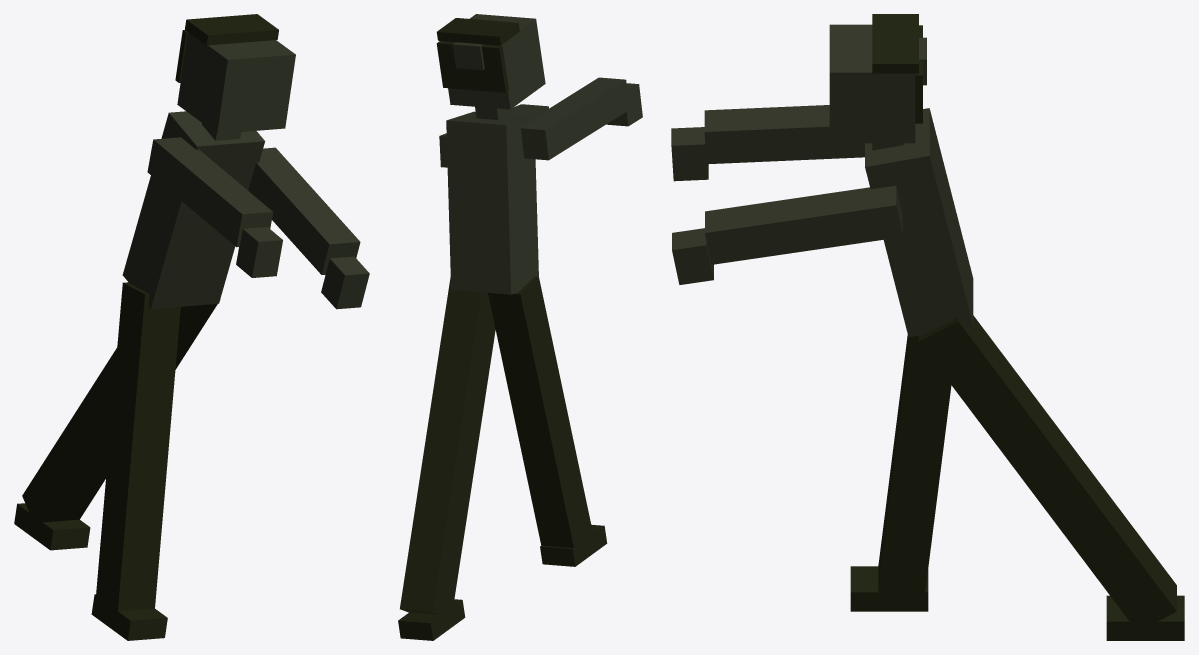
The model's file is SM_ZombiFino_v12_Cojo_LOD1.fbx.
3 views of the same model, side by side, from view 1: azimuth 30°, elevation 25°; view 2: azimuth 150°, elevation 25°; view 3: azimuth 270°, elevation 25° (orthographic). The views are drawn at different scales.
Parts seen in each view (by area): view 1: SM_zombi_fino_v12_LOD1; view 2: SM_zombi_fino_v12_LOD1; view 3: SM_zombi_fino_v12_LOD1.
Boxes of the visible parts, bbox=[...] form: SM_zombi_fino_v12_LOD1: bbox=[14, 14, 369, 640]; SM_zombi_fino_v12_LOD1: bbox=[398, 14, 642, 640]; SM_zombi_fino_v12_LOD1: bbox=[671, 14, 1184, 640].
Size of the model in its own units: 0.5399 by 1.8 by 1.32.
